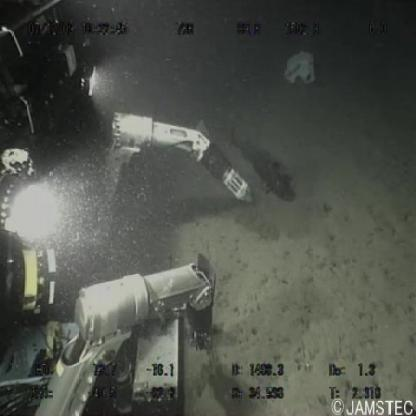Bio: (251, 130, 298, 204)
Rov: (1, 1, 254, 416)
Rác: (280, 47, 321, 89)
